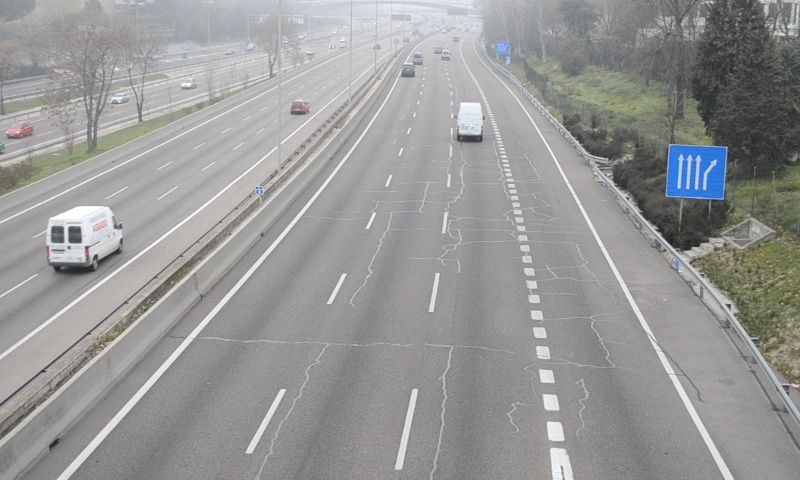car: (402, 62, 416, 76)
van: (456, 102, 484, 140)
